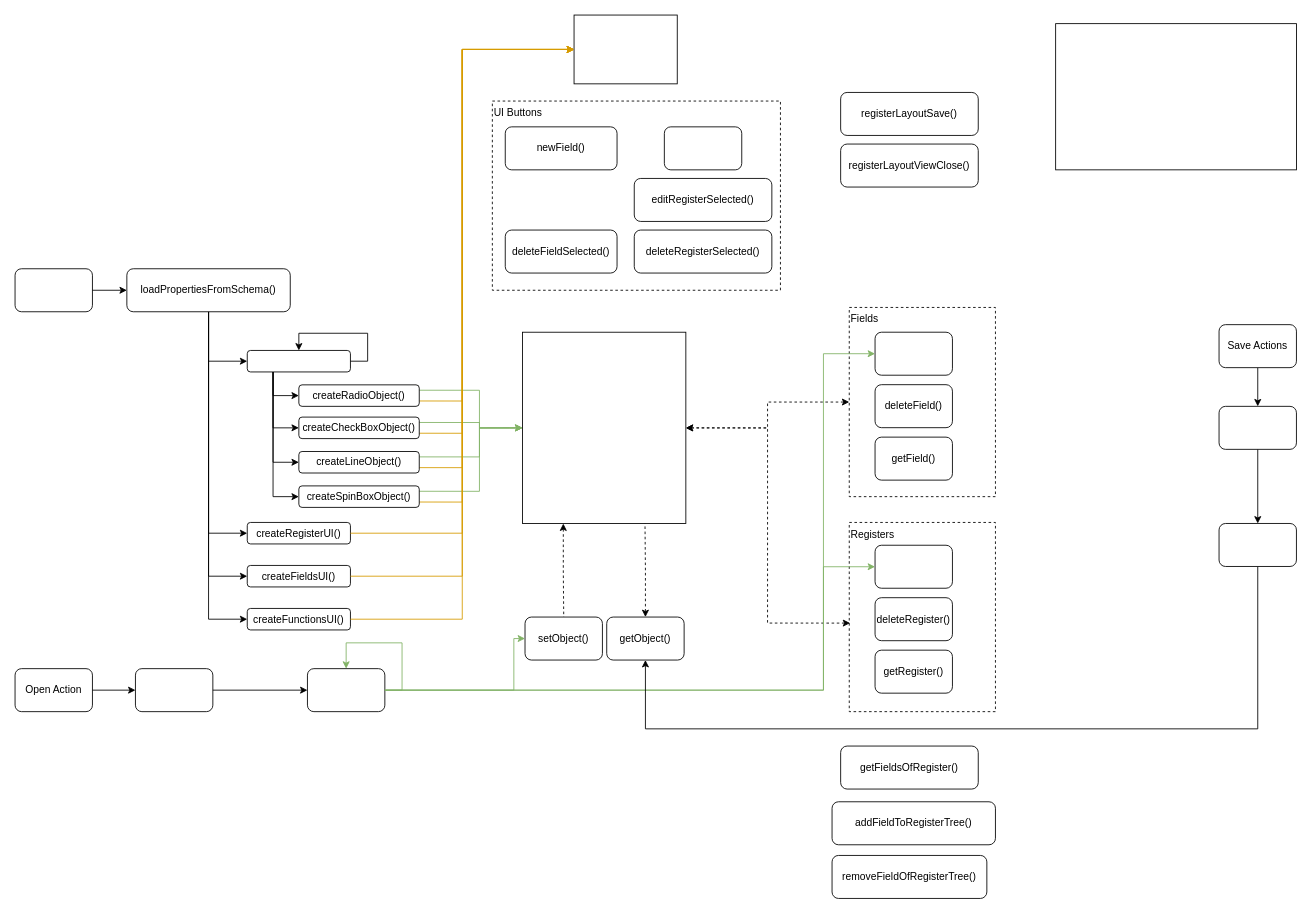
Some shapes in this 1312 by 914 pixel diagram are drawn without their labels. Here are the shapes that lost their labels. From the top down, the centre of each, then its label:
the point at 625,49: UI
the point at 1175,96: registerLayoutView
the point at 702,148: newRegister()
the point at 53,290: Init()
the point at 298,361: expandObject()
the point at 913,353: addField()
the point at 604,427: objectHandles
the point at 1257,427: saveFile()
the point at 1257,544: ObjectsToData()
the point at 913,566: addRegister()
the point at 174,690: openFile()
the point at 346,690: dataToObjects()
